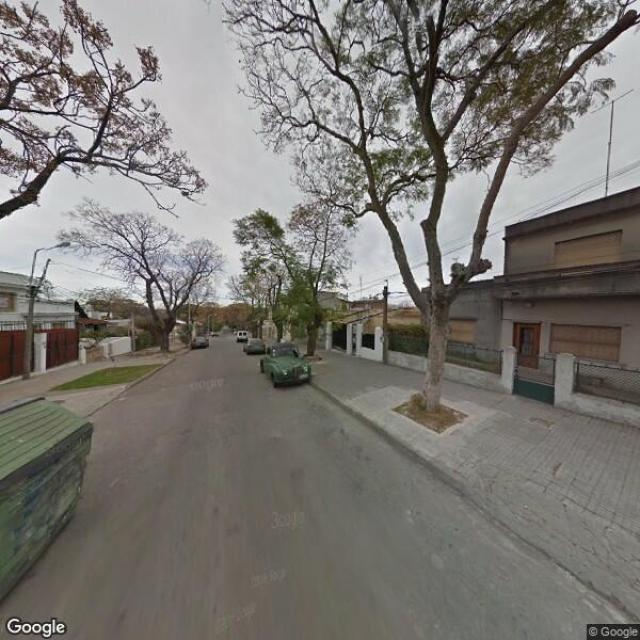garbage container: (1, 390, 105, 609)
